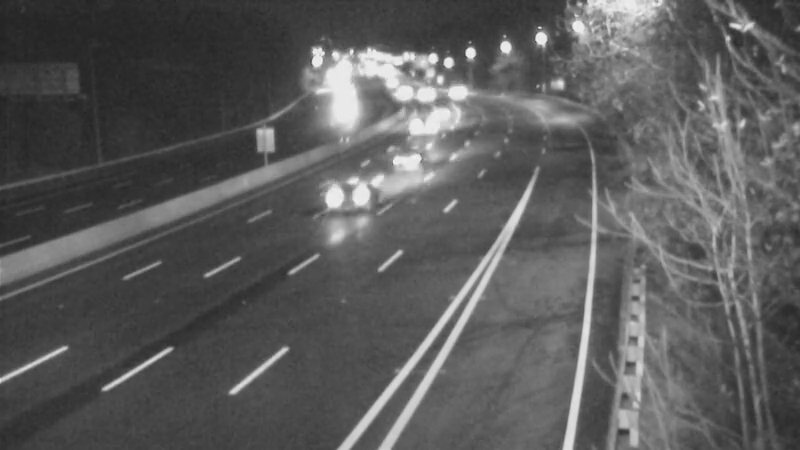vehicle: (365, 117, 445, 197), (314, 161, 394, 241), (426, 66, 476, 116), (378, 63, 428, 113), (404, 71, 454, 121), (414, 88, 464, 138), (396, 101, 446, 151), (317, 80, 367, 130)
